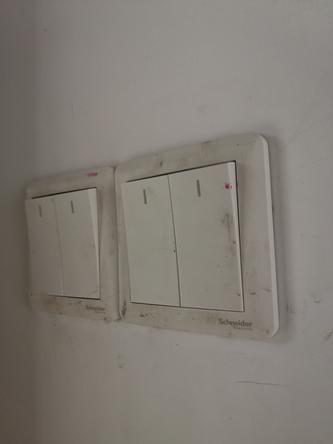switch: (167, 158, 259, 320), (115, 173, 183, 314), (52, 181, 106, 304), (21, 190, 68, 300)
